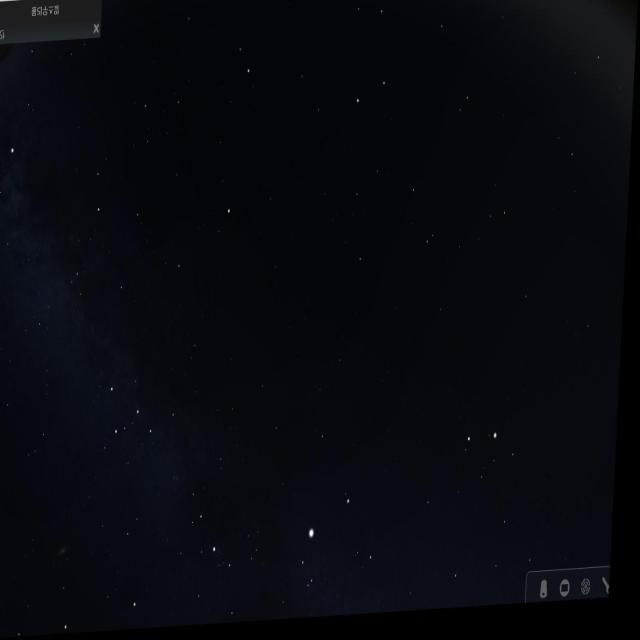cassiopeia: (107, 346, 194, 460)
